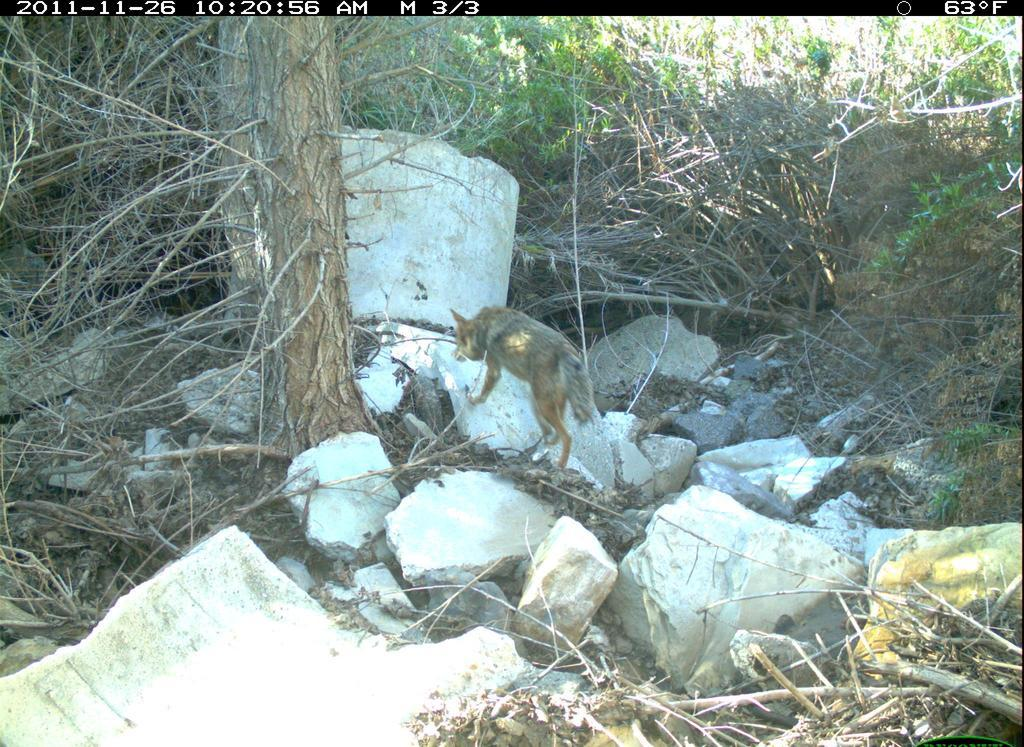coyote: (445, 303, 603, 473)
